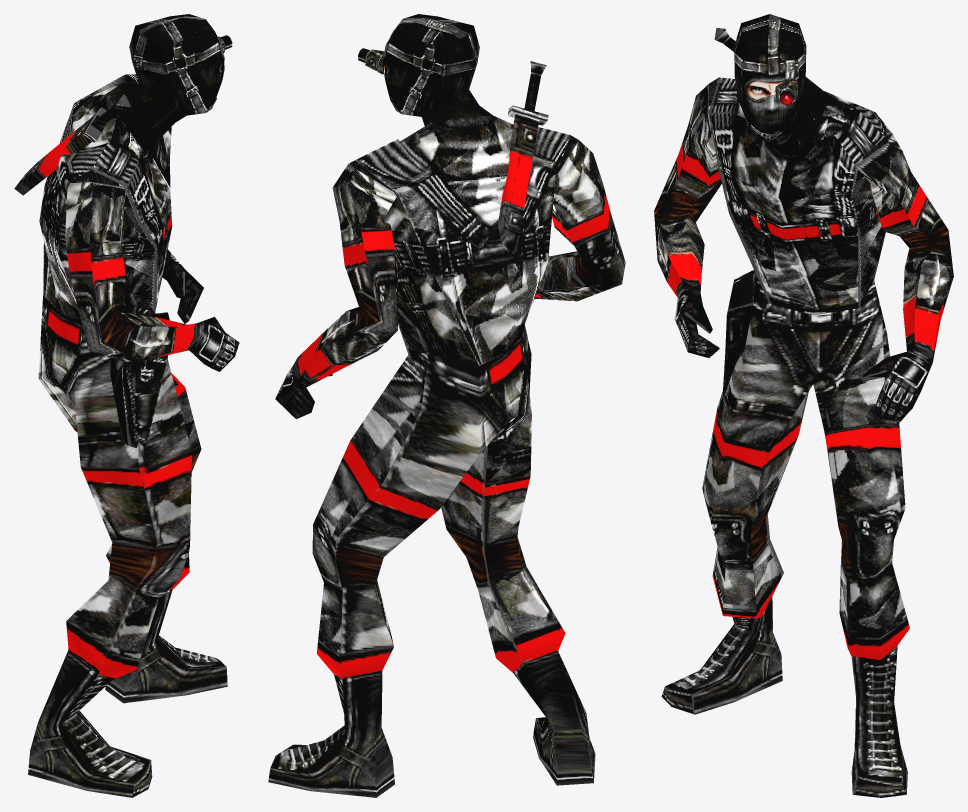
The model's file is spy.glb.
3 views of the same model, side by side, from view 1: azimuth 30°, elevation 25°; view 2: azimuth 150°, elevation 25°; view 3: azimuth 270°, elevation 25° (orthographic). The views are drawn at different scales.
Parts seen in each view (by area): view 1: spy; view 2: spy; view 3: spy.
Part boxes in pixels (left/top/right/bottom): spy: left=14, top=14, right=239, bottom=797; spy: left=268, top=14, right=625, bottom=797; spy: left=654, top=14, right=953, bottom=797.
Size of the model in its own units: 25.13 by 68.58 by 25.75.
Materials: 2 (2 with a texture image).
